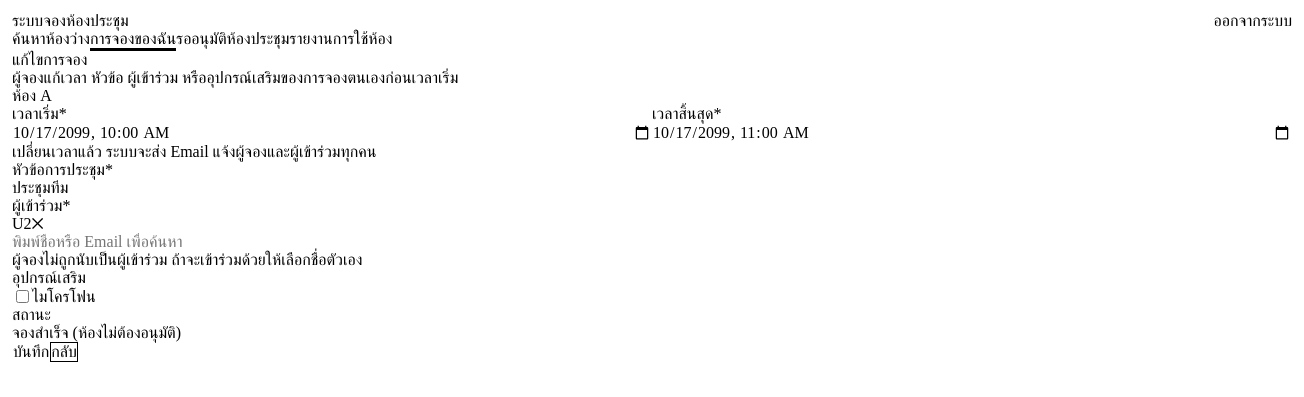
Test case: FE-mrr-004 edit booking page (UI-mrr-008) › error: AC-mrr-080 the room closed for maintenance shows the reason and keeps the form
Expected: the field with test id "ui-mrr-008-ent-007-title" holds "ประชุมทีม", [12,179,1292,197]
Replace the text in the field with test id "ui-mrr-008-ent-007-start-at" with "2099-10-17T14:00" at (332, 133), box [12,123,652,143]
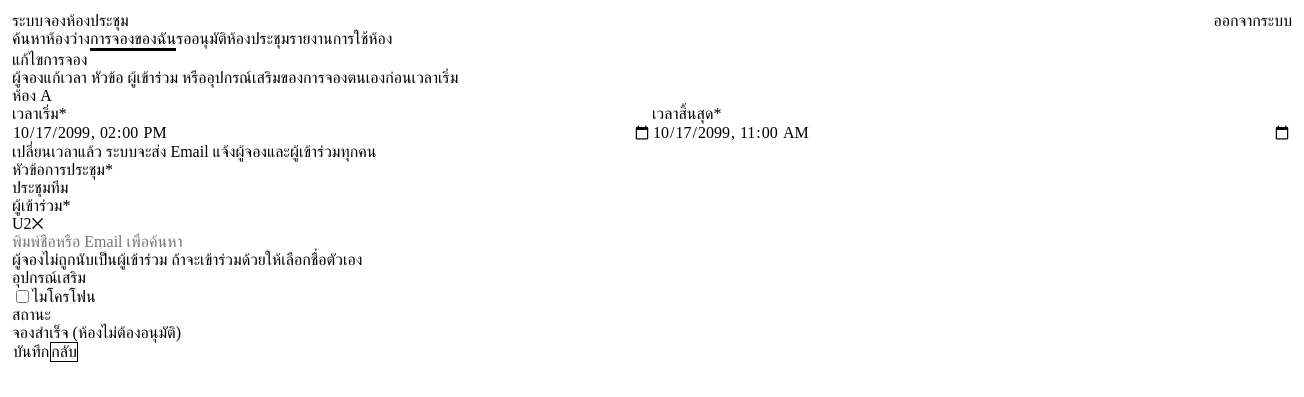
Replace the text in the field with test id "ui-mrr-008-ent-007-end-at" with "2099-10-17T15:00" at (972, 133), box [652,123,1292,143]
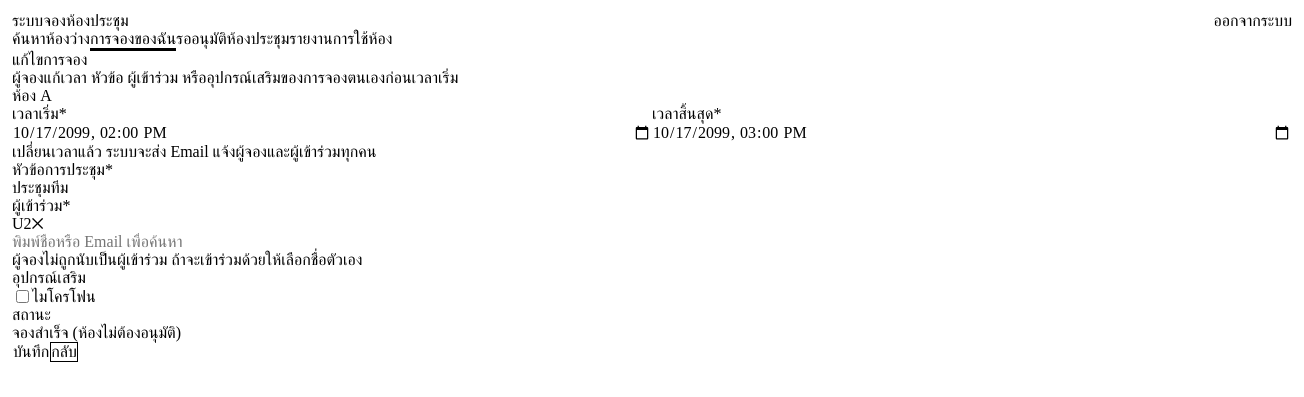
Click the button with test id "ui-mrr-008-save".
click(31, 352)  # box [12,342,50,362]
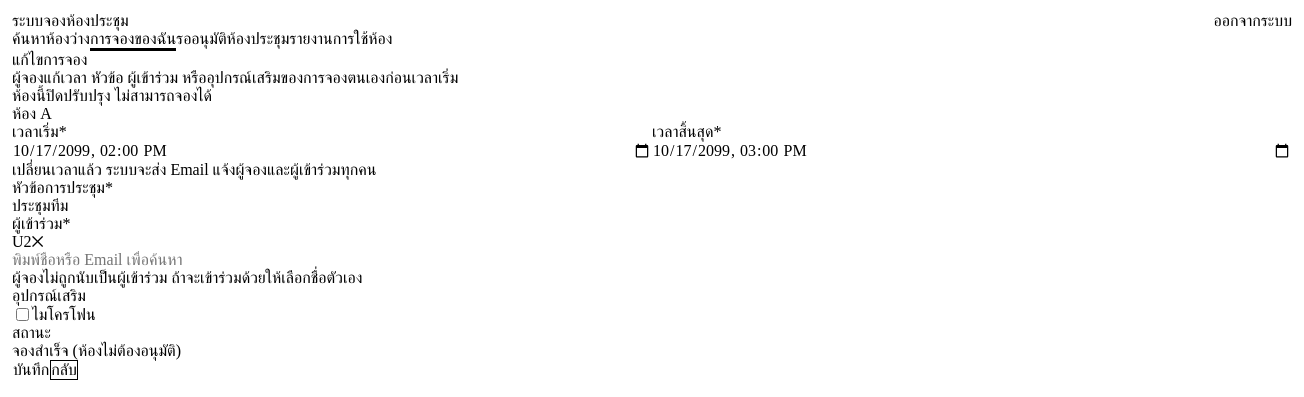
Expected: the button with test id "ui-mrr-008-save" is enabled, [12,360,50,380]
Result: the message reads "ห้องนี้ปิดปรับปรุง ไม่สามารถจองได้" at [12,87,212,104]
